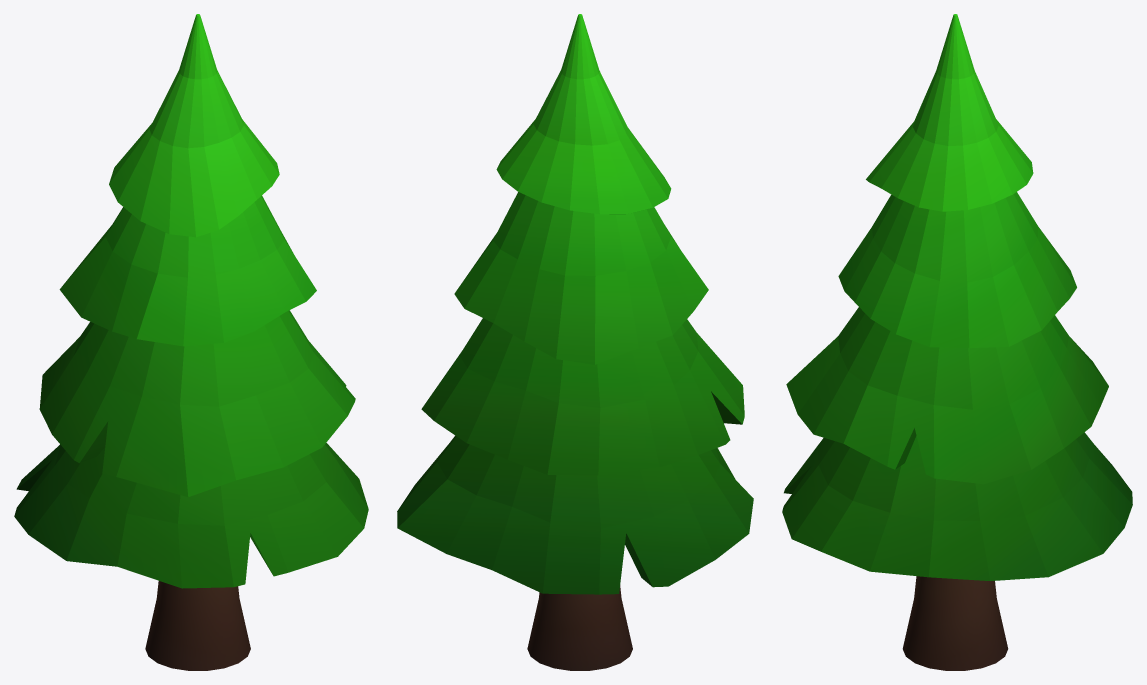
File: Tree7.glb
3 views of the same model, side by side, from view 1: azimuth 30°, elevation 25°; view 2: azimuth 150°, elevation 25°; view 3: azimuth 270°, elevation 25° (orthographic).
Visible parts, largest first — view 1: Tree.006; view 2: Tree.006; view 3: Tree.006.
Part boxes in pixels (x1,y1,x2,y2): Tree.006: [14, 14, 368, 670]; Tree.006: [397, 14, 753, 670]; Tree.006: [782, 14, 1132, 670].
Bounding box in the file's own units: 8.67 × 17.46 × 8.75.
Materials: 2 (2 with a texture image).
